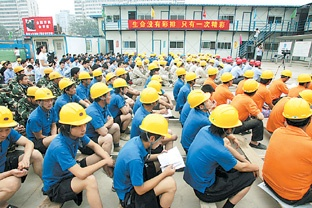none: (16, 73, 28, 86), (38, 44, 46, 53)
yellow: (55, 101, 93, 138), (208, 104, 242, 137), (138, 111, 167, 149), (282, 95, 311, 130), (187, 88, 214, 113), (88, 83, 113, 107), (1, 105, 15, 141), (139, 88, 160, 109), (34, 88, 53, 110), (242, 77, 258, 96), (258, 70, 275, 87), (112, 78, 128, 95), (297, 72, 312, 89), (221, 71, 235, 88), (280, 68, 293, 82), (79, 71, 91, 86), (147, 63, 160, 76), (186, 72, 197, 87), (49, 71, 61, 84), (92, 69, 103, 82), (207, 67, 217, 80), (176, 68, 186, 79)
